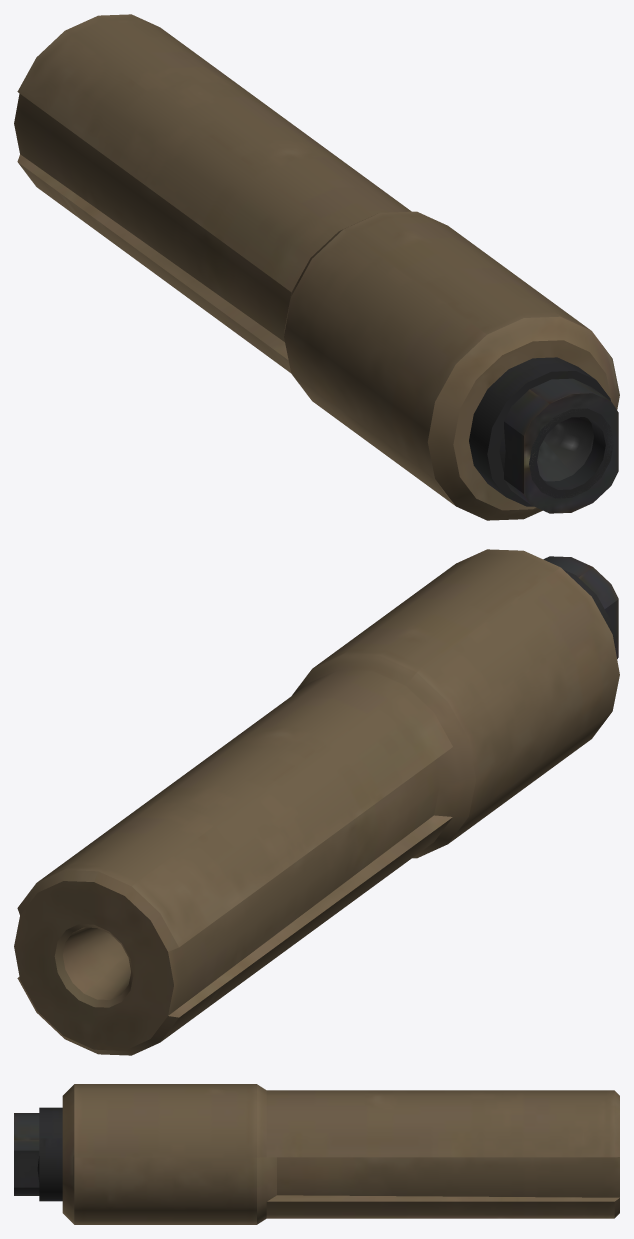
File: m1911-att.glb
The picture shows the model from 3 angles, top to bottom: view 1: azimuth 30°, elevation 25°; view 2: azimuth 150°, elevation 25°; view 3: azimuth 270°, elevation 25°; orthographic projection. The views are drawn at different scales.
Parts seen in each view (by area): view 1: can45, comp45; view 2: can45; view 3: can45, comp45.
Boxes of the visible parts, left/top/right/bottom form: can45: left=14, top=14, right=619, bottom=520; comp45: left=469, top=357, right=613, bottom=506; can45: left=14, top=549, right=619, bottom=1055; can45: left=14, top=1084, right=619, bottom=1224; comp45: left=37, top=1107, right=62, bottom=1201.
Bounding box in the file's own units: 0.036 × 0.036 × 0.1548.
2 materials, 2 textured.
